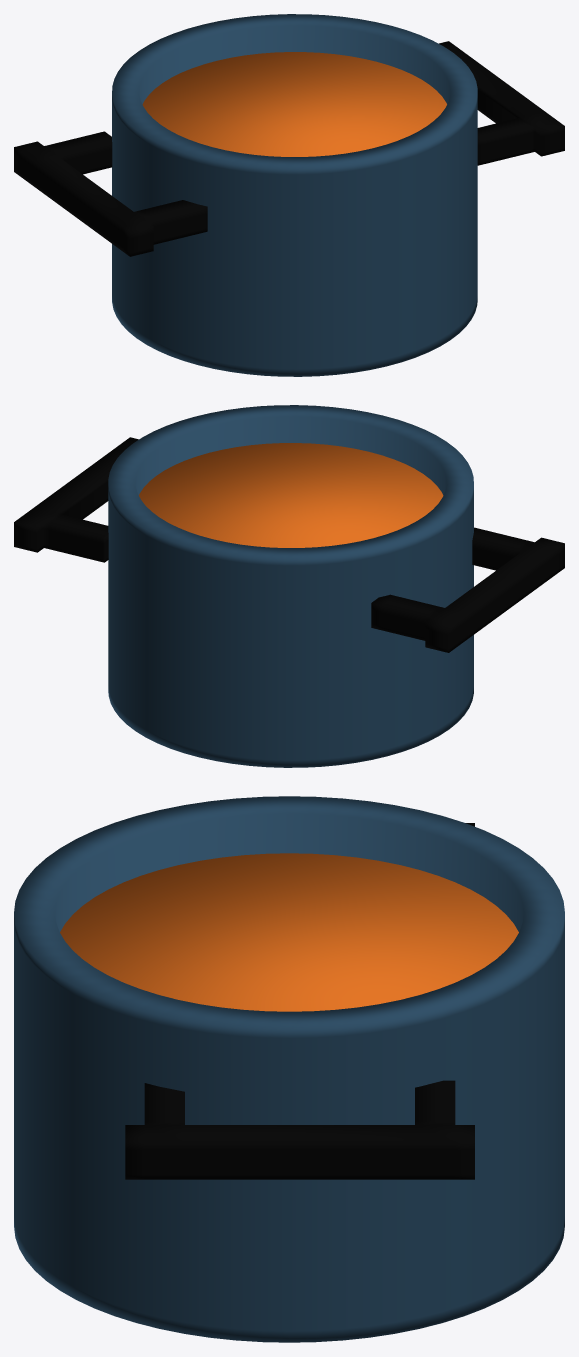
The model's file is pot.fbx.
3 renders of one model, top to bottom at view 1: azimuth 30°, elevation 25°; view 2: azimuth 150°, elevation 25°; view 3: azimuth 270°, elevation 25°, orthographic. The views are drawn at different scales.
Visible parts, largest first — view 1: pot; view 2: pot; view 3: pot.
Boxes of the visible parts, bbox=[...] form: pot: bbox=[14, 14, 564, 376]; pot: bbox=[14, 405, 564, 767]; pot: bbox=[14, 796, 564, 1342].
Size of the model in its own units: 128 by 58.55 by 93.24.
